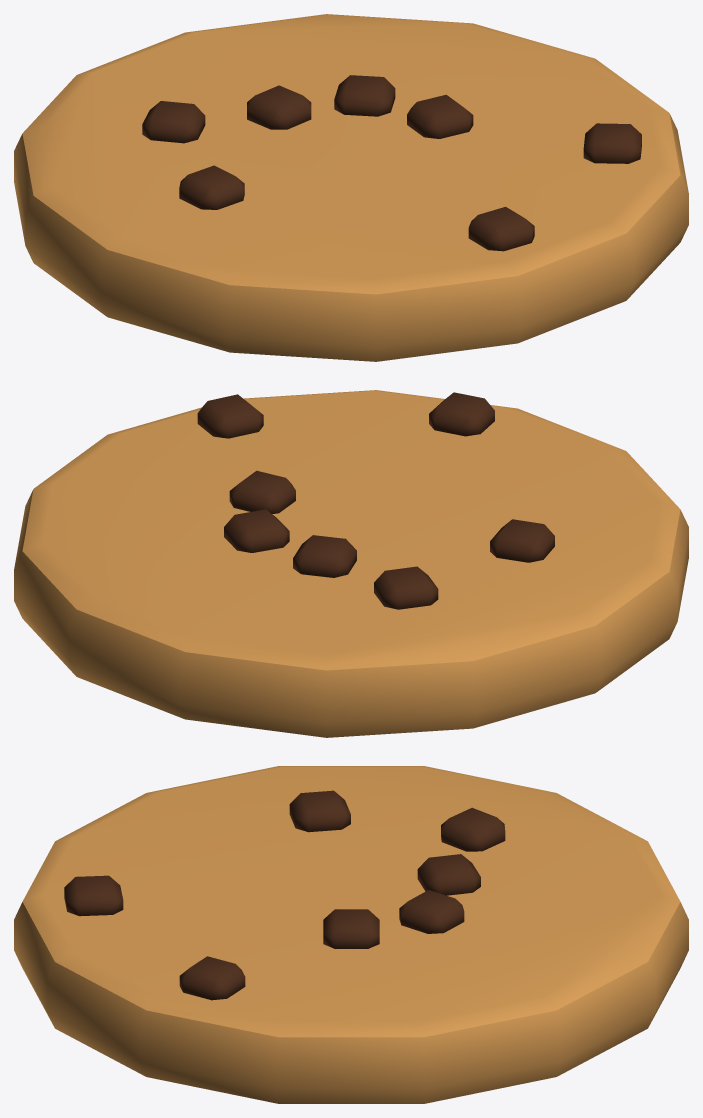
Rendered from Cookie.fbx.
3 renders of one model, top to bottom at view 1: azimuth 30°, elevation 25°; view 2: azimuth 150°, elevation 25°; view 3: azimuth 270°, elevation 25°, orthographic.
Visible parts, largest first — view 1: Cookie; view 2: Cookie; view 3: Cookie.
Part boxes in pixels (left/top/right/bottom): Cookie: left=14, top=14, right=688, bottom=361; Cookie: left=14, top=390, right=688, bottom=737; Cookie: left=14, top=766, right=688, bottom=1103.
Size of the model in its own units: 1.17 by 0.2 by 1.2.
1 material, 1 textured.
